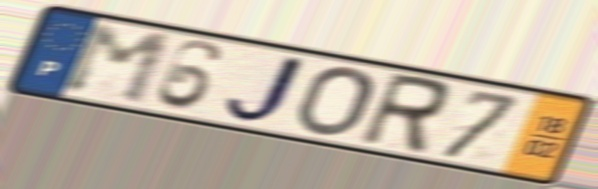6: (151, 39, 227, 115)
7: (439, 88, 525, 161)
J: (219, 51, 312, 128)
M: (59, 21, 176, 108)
O: (293, 65, 378, 138)
R: (352, 70, 455, 158)
